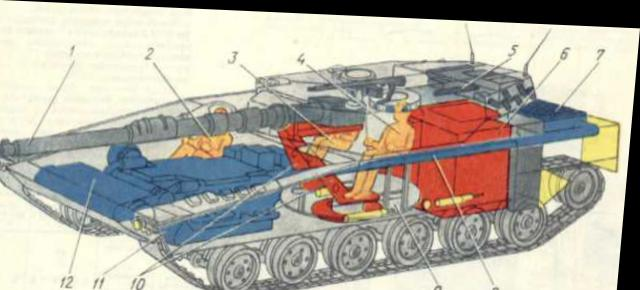other: (0, 41, 612, 288)
